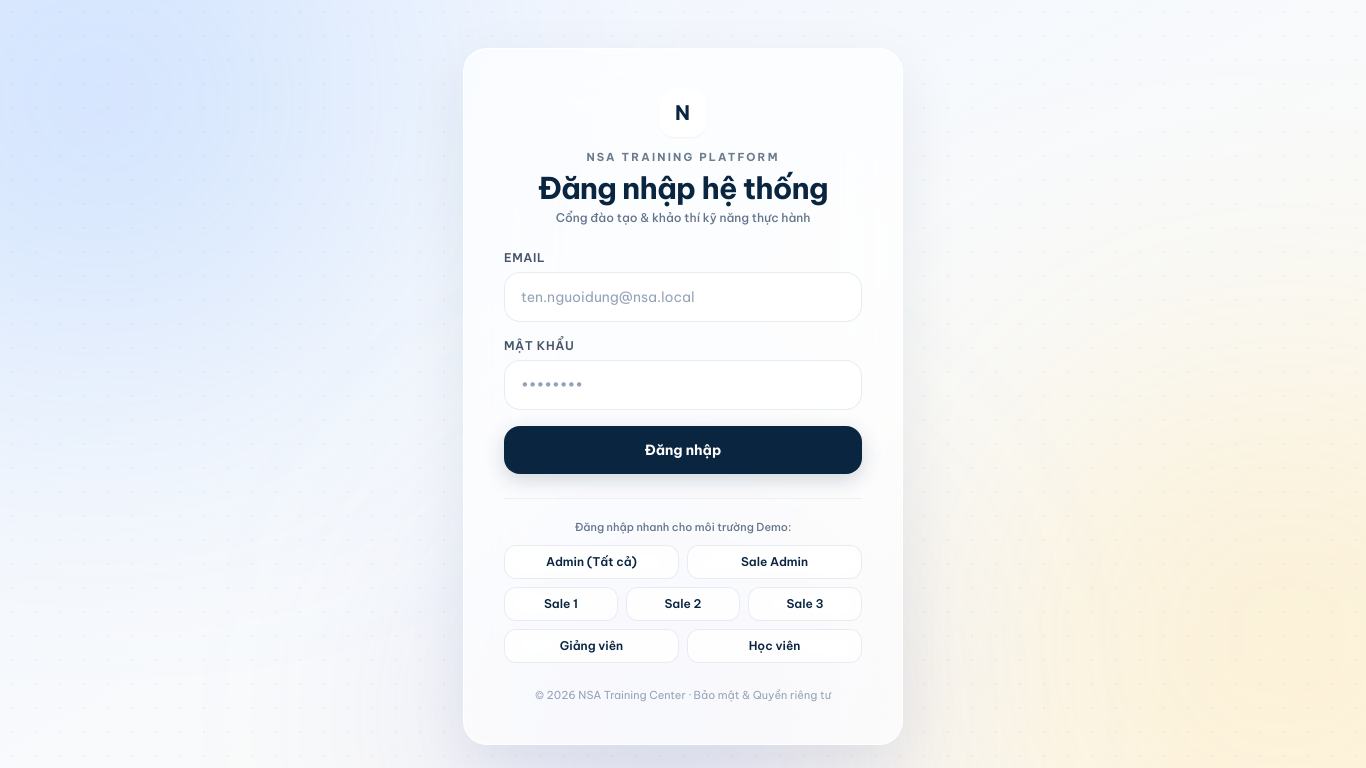
Scenario: LoginPage › rejects an invalid email format
This screenshot has width=1366, height=768.
Type "not-an-email" into the field labelled "Email" at (683, 296), box 504,272 -> 862,322
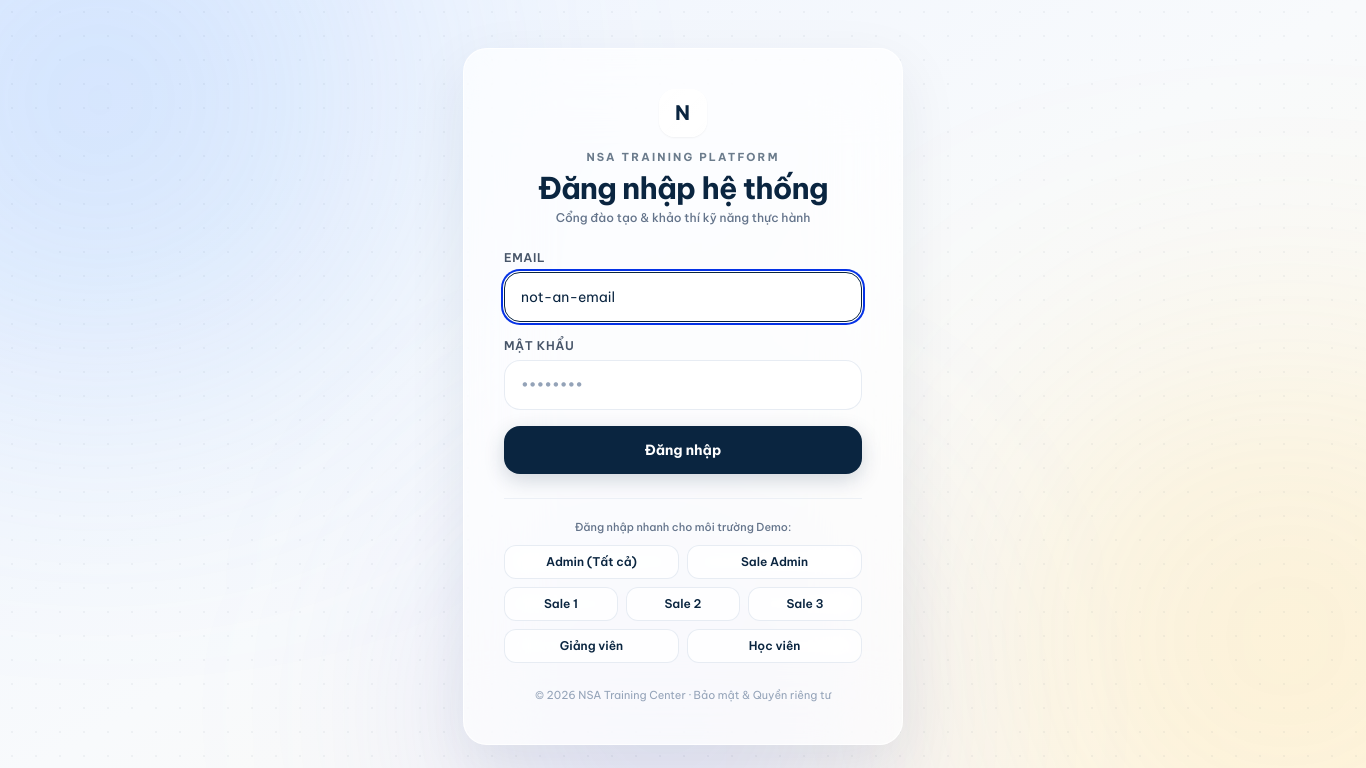
Type "whatever1" into the password field labelled "Mật khẩu" at (683, 384), box 504,360 -> 862,410
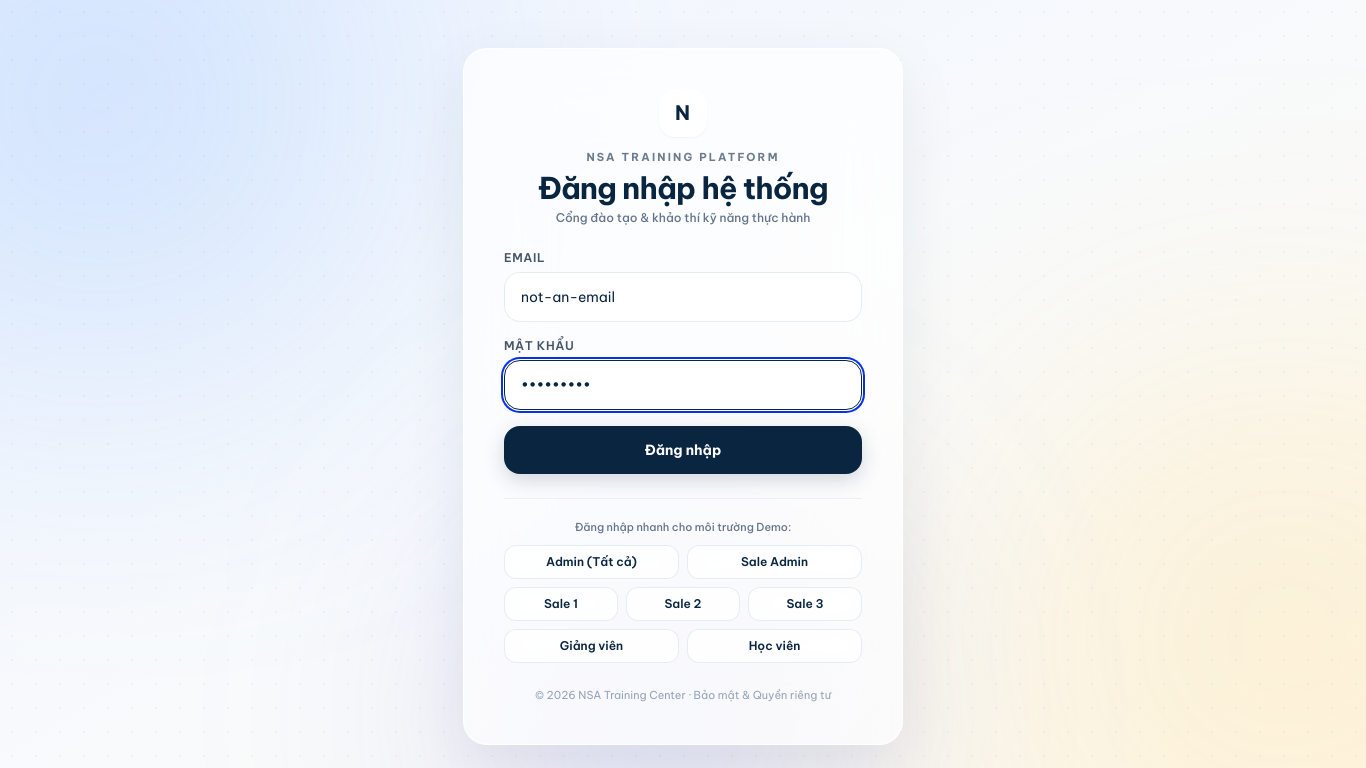
Click the button "Đăng nhập" at (683, 450), box 504,426 -> 862,474
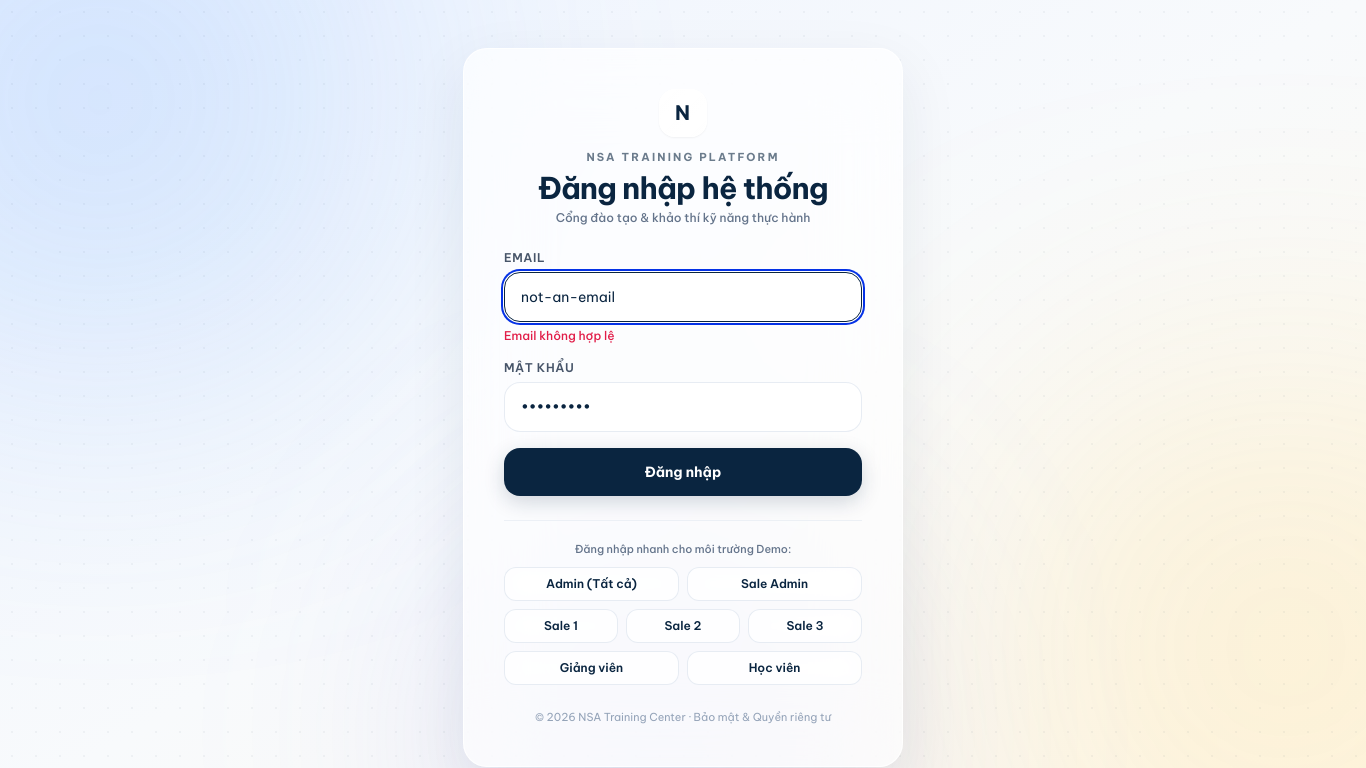
expect the text "Email không hợp lệ" is shown: met, box 504,328 -> 615,342
